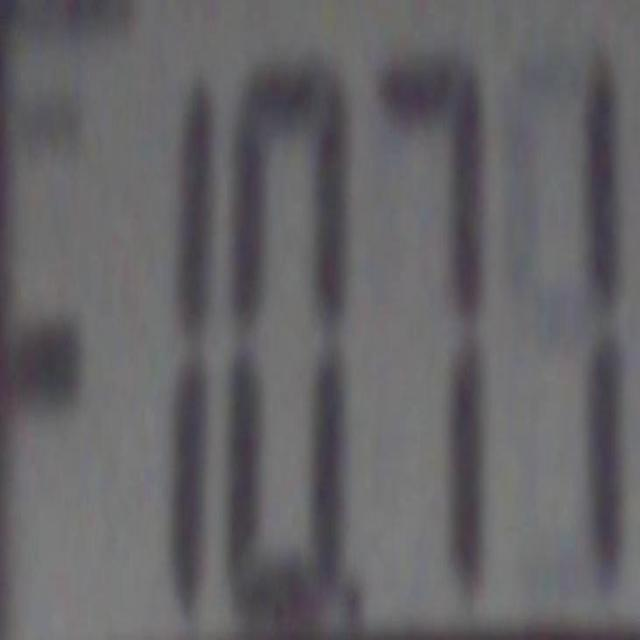.: (5, 321, 82, 407)
0: (228, 54, 354, 622)
1: (172, 76, 214, 609), (586, 45, 626, 579)
7: (378, 50, 488, 592)
